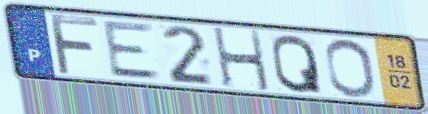2: (160, 25, 218, 88)
E: (100, 20, 164, 82)
F: (47, 11, 102, 78)
H: (210, 25, 273, 93)
O: (322, 37, 379, 99)
Q: (269, 33, 325, 95)
